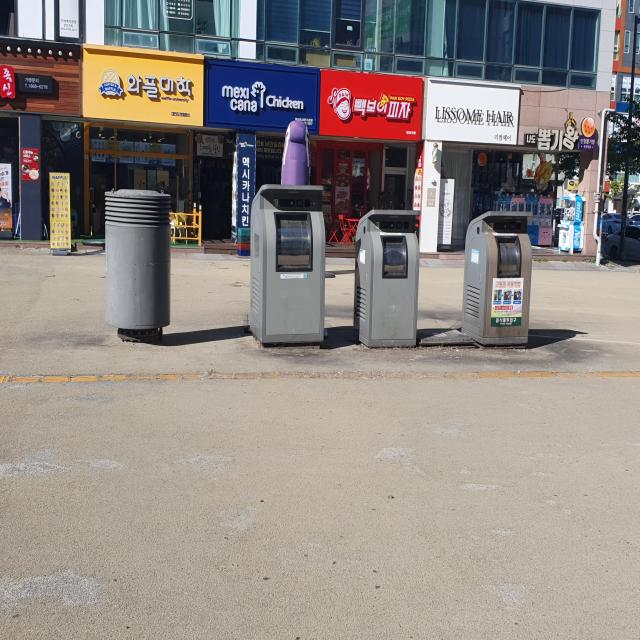CleanNet: (249, 185, 326, 346), (463, 209, 533, 348), (353, 209, 420, 351)
